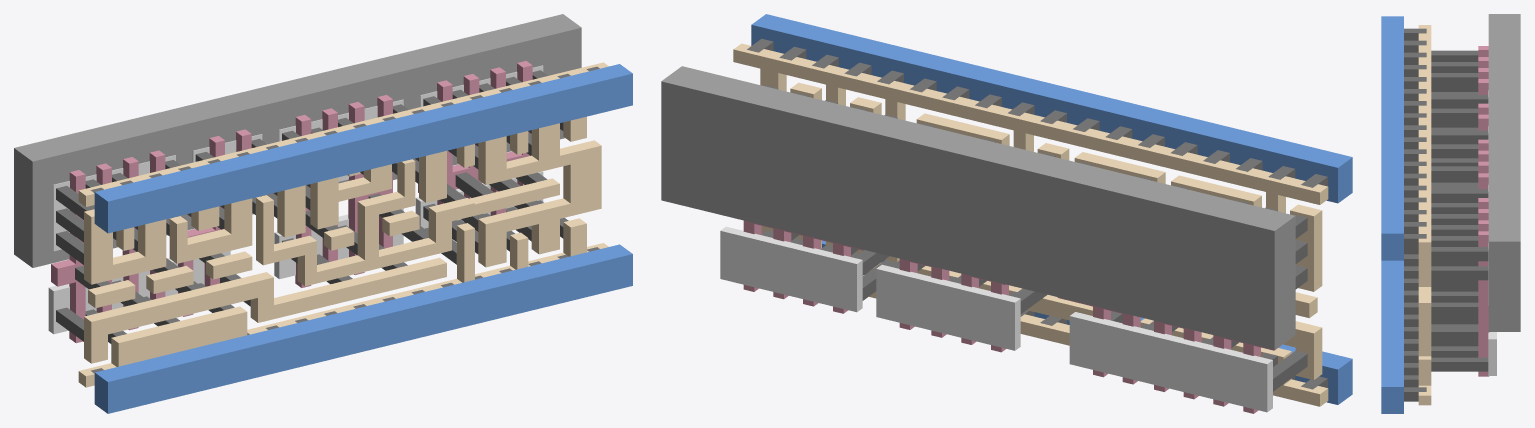
The model's file is sky130_fd_sc_hd__o32a_4.gds.gltf.
The picture shows the model from 3 angles, left to right: view 1: azimuth 30°, elevation 25°; view 2: azimuth 150°, elevation 25°; view 3: azimuth 270°, elevation 25°; orthographic projection. The views are drawn at different scales.
Visible parts, largest first — view 1: sky130_fd_sc_hd__o32a_4_li1, sky130_fd_sc_hd__o32a_4_met1, sky130_fd_sc_hd__o32a_4_nwell, sky130_fd_sc_hd__o32a_4_licon, sky130_fd_sc_hd__o32a_4_poly, sky130_fd_sc_hd__o32a_4_diff, sky130_fd_sc_hd__o32a_4_mcon; view 2: sky130_fd_sc_hd__o32a_4_nwell, sky130_fd_sc_hd__o32a_4_diff, sky130_fd_sc_hd__o32a_4_li1, sky130_fd_sc_hd__o32a_4_met1, sky130_fd_sc_hd__o32a_4_mcon, sky130_fd_sc_hd__o32a_4_poly, sky130_fd_sc_hd__o32a_4_licon; view 3: sky130_fd_sc_hd__o32a_4_licon, sky130_fd_sc_hd__o32a_4_nwell, sky130_fd_sc_hd__o32a_4_met1, sky130_fd_sc_hd__o32a_4_mcon, sky130_fd_sc_hd__o32a_4_li1, sky130_fd_sc_hd__o32a_4_poly, sky130_fd_sc_hd__o32a_4_diff.
Boxes of the visible parts, x1,y1,x2,y2 form: sky130_fd_sc_hd__o32a_4_li1: (78,62,608,387); sky130_fd_sc_hd__o32a_4_met1: (94,64,632,413); sky130_fd_sc_hd__o32a_4_nwell: (14,14,581,267); sky130_fd_sc_hd__o32a_4_licon: (56,70,568,343); sky130_fd_sc_hd__o32a_4_poly: (51,61,532,343); sky130_fd_sc_hd__o32a_4_diff: (48,65,543,334); sky130_fd_sc_hd__o32a_4_mcon: (90,66,599,373); sky130_fd_sc_hd__o32a_4_nwell: (661,66,1295,349); sky130_fd_sc_hd__o32a_4_diff: (720,226,1272,412); sky130_fd_sc_hd__o32a_4_li1: (733,43,1328,406); sky130_fd_sc_hd__o32a_4_met1: (751,14,1352,404); sky130_fd_sc_hd__o32a_4_mcon: (747,38,1327,389); sky130_fd_sc_hd__o32a_4_poly: (743,220,1281,413); sky130_fd_sc_hd__o32a_4_licon: (761,85,1307,391); sky130_fd_sc_hd__o32a_4_licon: (1431,50,1488,371); sky130_fd_sc_hd__o32a_4_nwell: (1488,14,1520,331); sky130_fd_sc_hd__o32a_4_met1: (1381,16,1403,413); sky130_fd_sc_hd__o32a_4_mcon: (1404,28,1426,401); sky130_fd_sc_hd__o32a_4_li1: (1418,25,1431,405); sky130_fd_sc_hd__o32a_4_poly: (1478,46,1489,376); sky130_fd_sc_hd__o32a_4_diff: (1488,90,1496,375).
Size of the model in its own units: 8.66 by 3.2 by 2.24.
